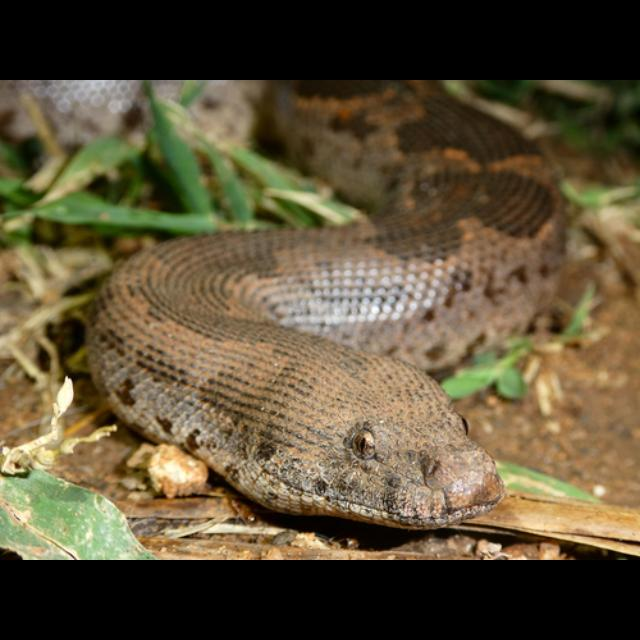snake: (69, 83, 573, 537)
